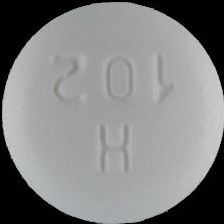70786-9056: (0, 0, 224, 224)
